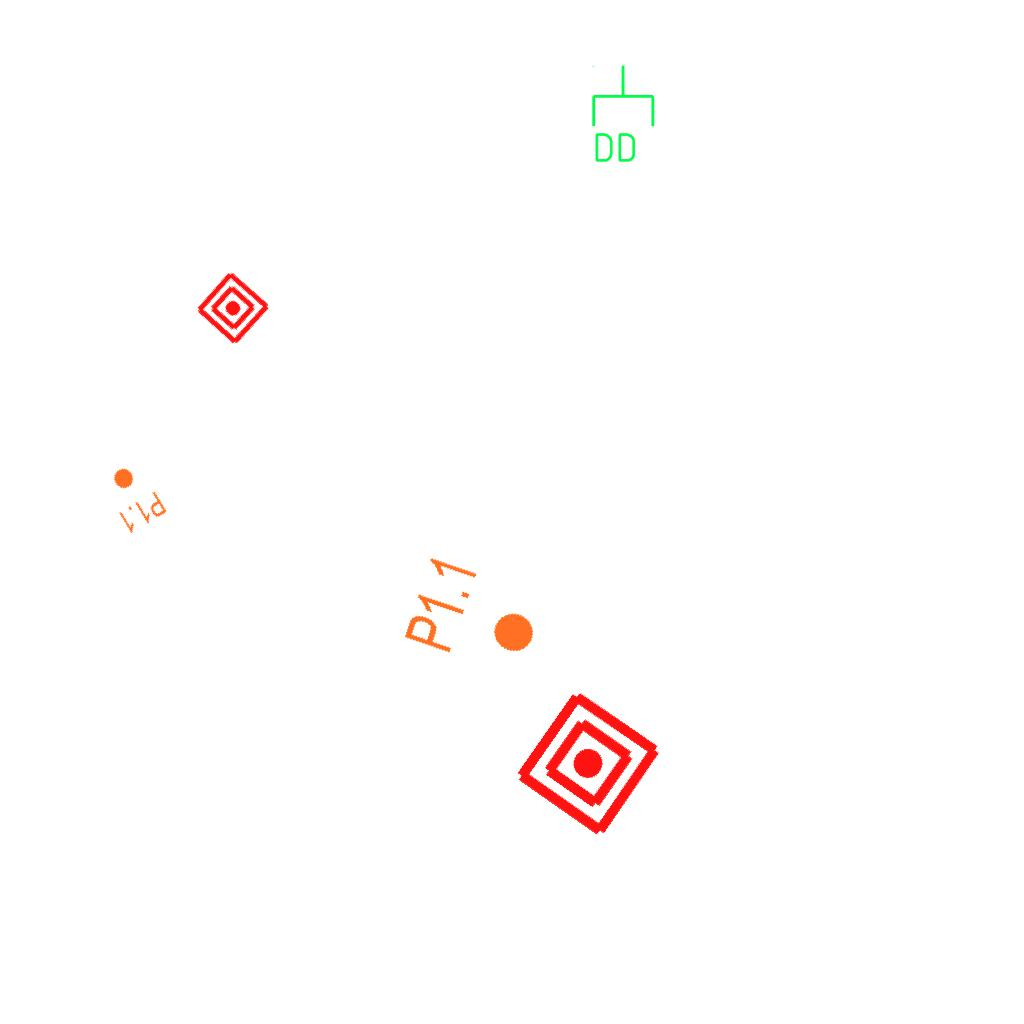Datenanschluss_zweifach: (588, 63, 657, 166)
Downlight_LED_Einbauleuchten_Flur: (399, 551, 552, 681), (96, 457, 170, 537)
NAM-Nichtautomatischer_Melder: (509, 684, 668, 843), (193, 268, 273, 348)
